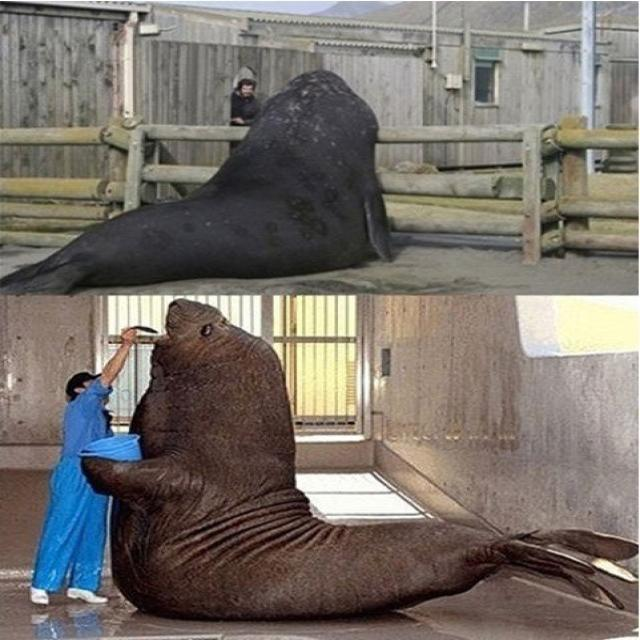walrus: (123, 303, 621, 609)
